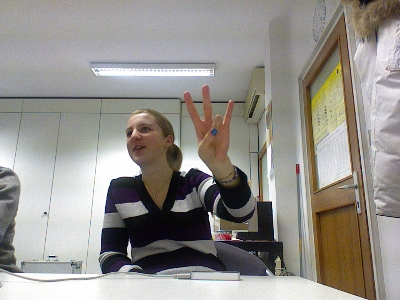观音: (182, 83, 234, 166)
